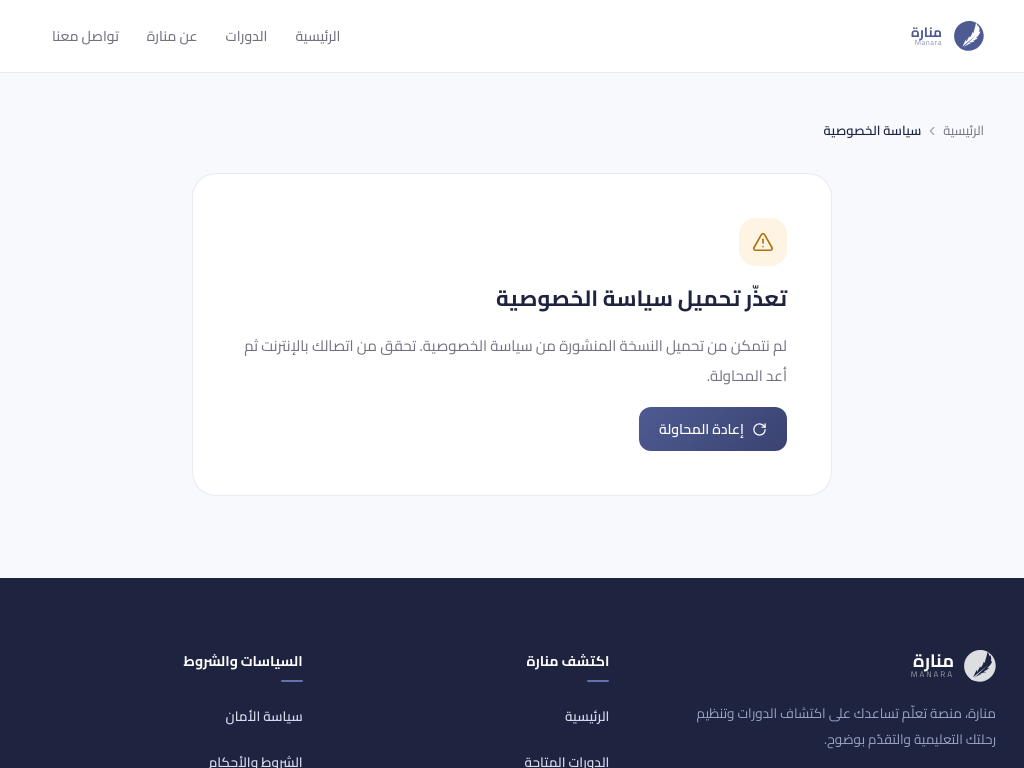
Scenario: when there is nothing to show › offers a retry after a failure, and renders the policy when the retry succeeds
Expected: the heading "تعذّر تحميل سياسة الخصوصية" is shown, [496, 282, 787, 315]
Click the button "إعادة المحاولة" at {"x": 713, "y": 429}, box [639, 407, 787, 451]
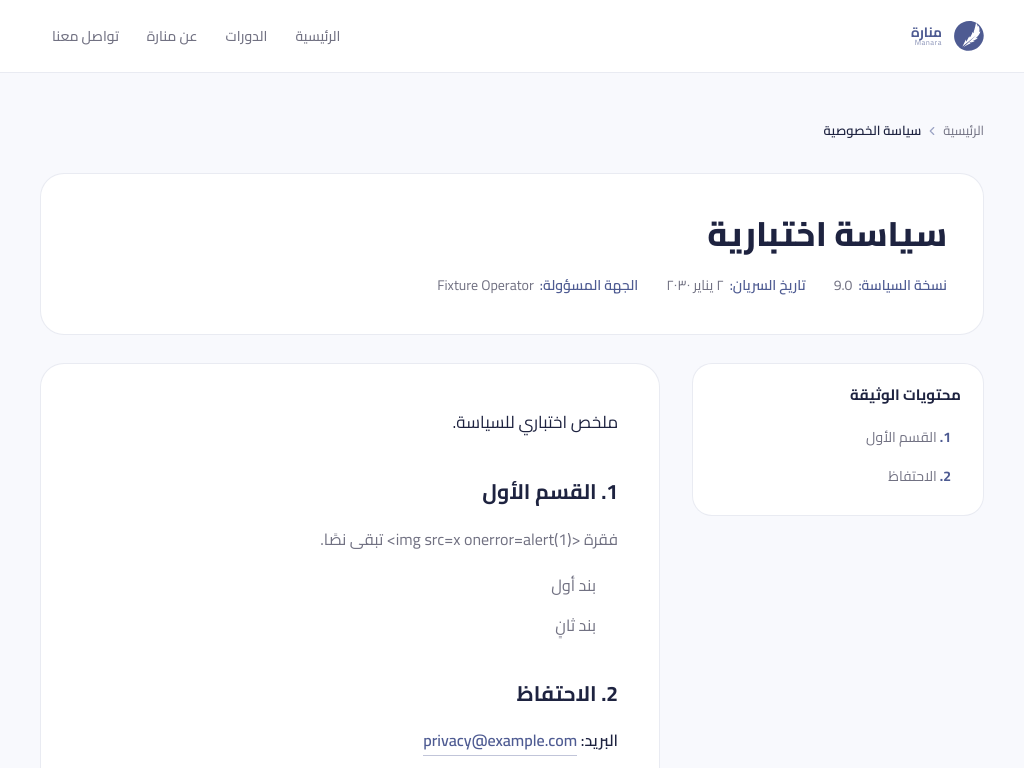
Expected: the element that starts with "ملخص اختباري للسياسة." is shown, [320, 406, 618, 756]
